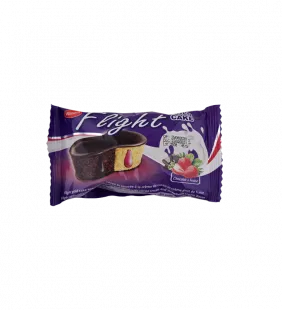FLIGHT: (36, 99, 228, 211)
